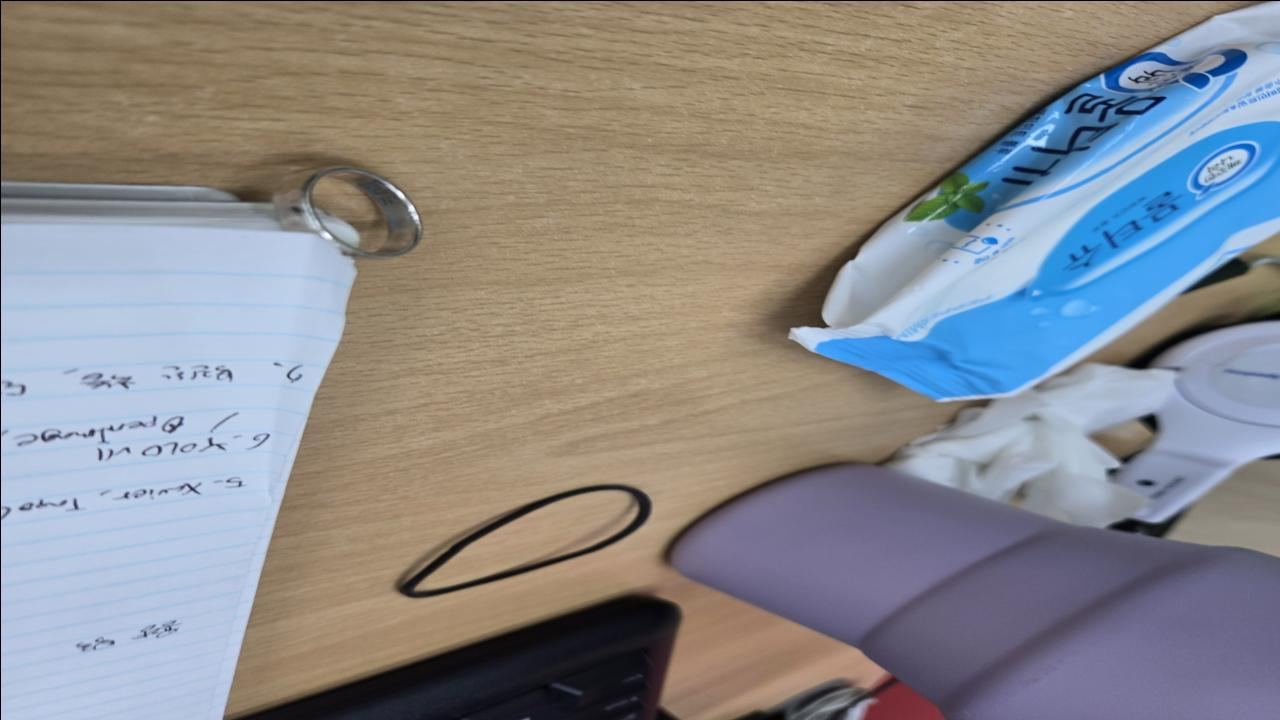ring: (272, 162, 426, 261)
